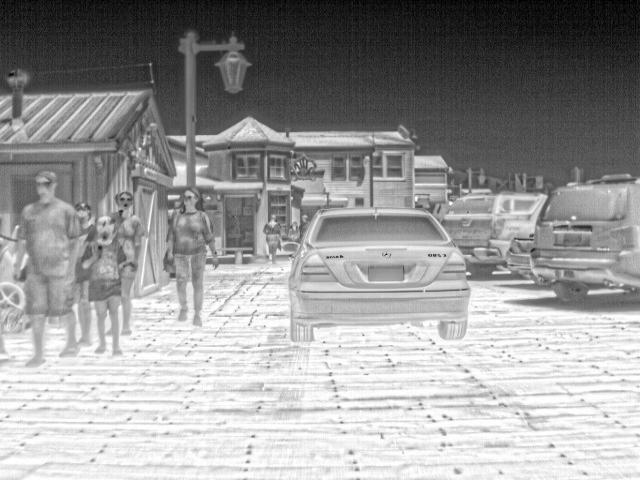car: (287, 208, 474, 345), (529, 175, 639, 303), (439, 192, 546, 277), (506, 232, 546, 287)
person: (15, 168, 82, 364), (165, 189, 218, 324), (82, 215, 127, 355), (112, 191, 143, 336), (76, 200, 95, 246), (264, 210, 280, 262)
